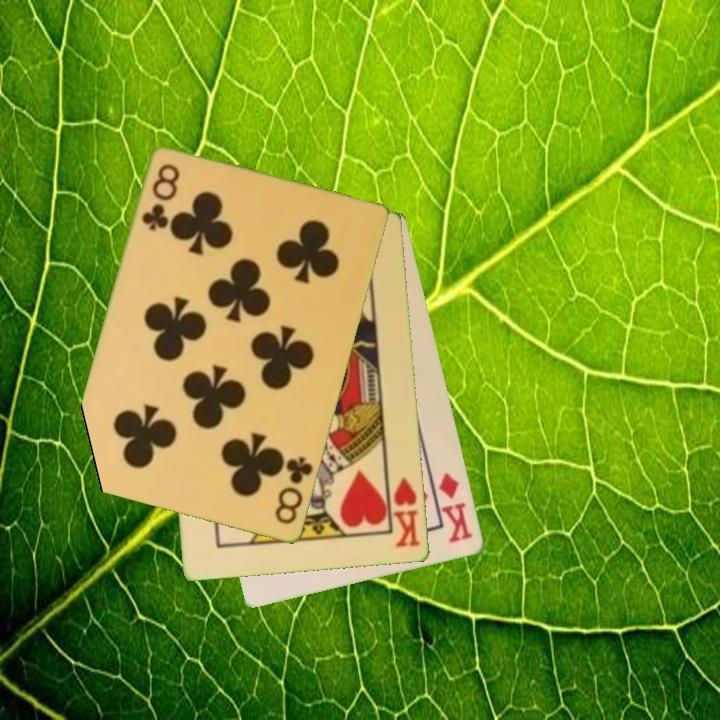8c: (271, 453, 316, 528), (138, 161, 183, 235)
Kd: (435, 469, 476, 546)
Kh: (385, 470, 423, 551)
